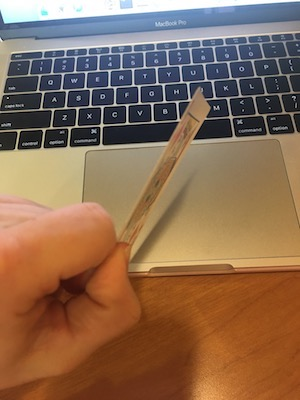KingOfDiamonds: (97, 79, 215, 281)
